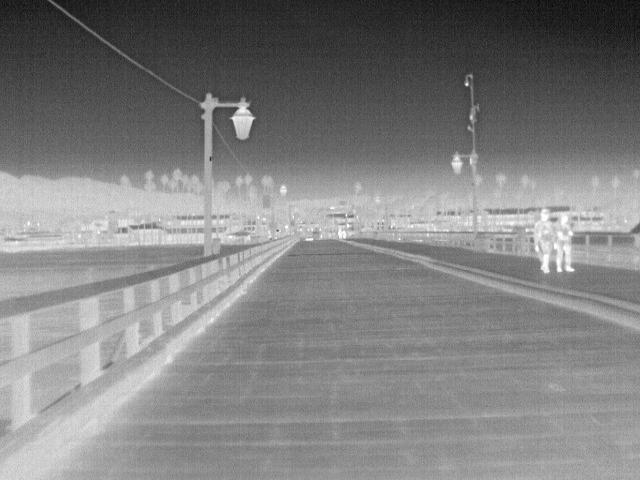person: (535, 205, 561, 276), (553, 208, 574, 272)
